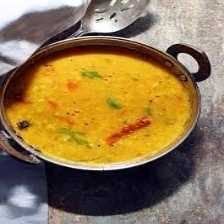dal: (0, 44, 195, 167)
